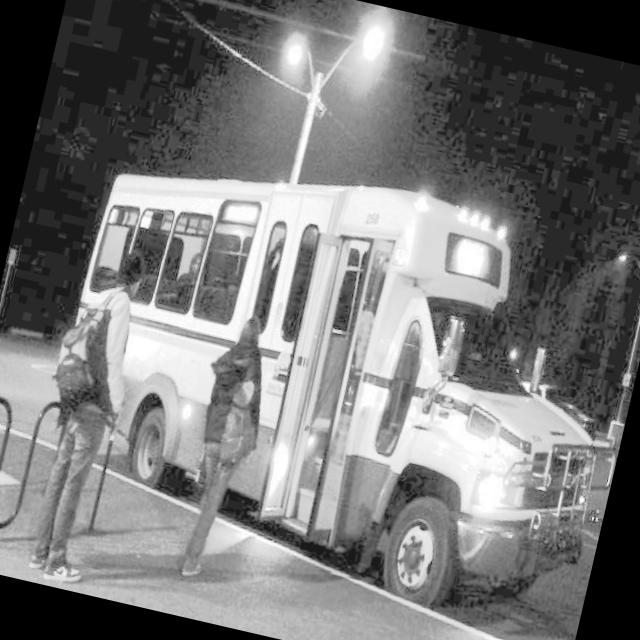Bus: (33, 97, 640, 640)
